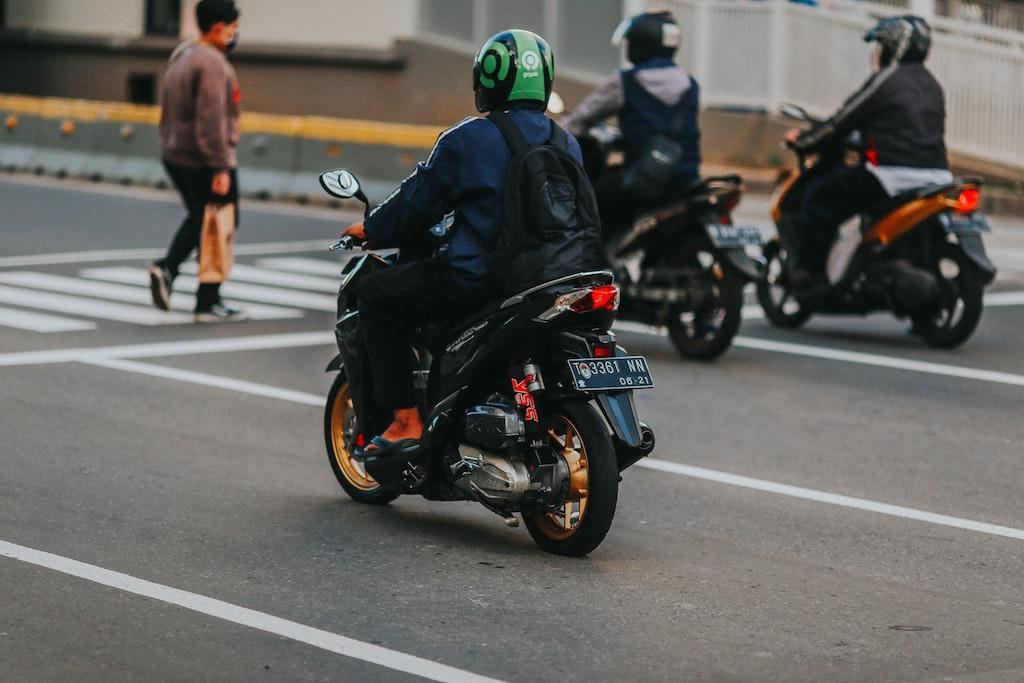helmet: (471, 27, 555, 116), (863, 13, 934, 73), (610, 10, 683, 66)
